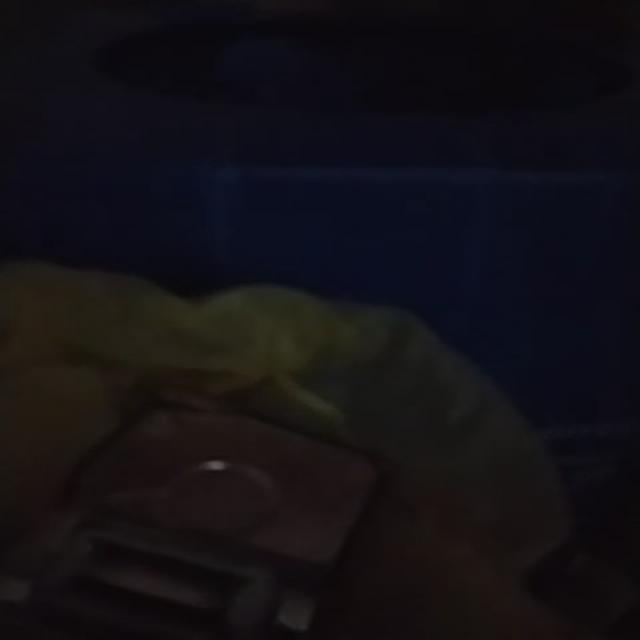Metal: (4, 394, 379, 640)
